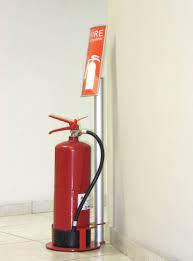floor-kept: (36, 102, 134, 261)
